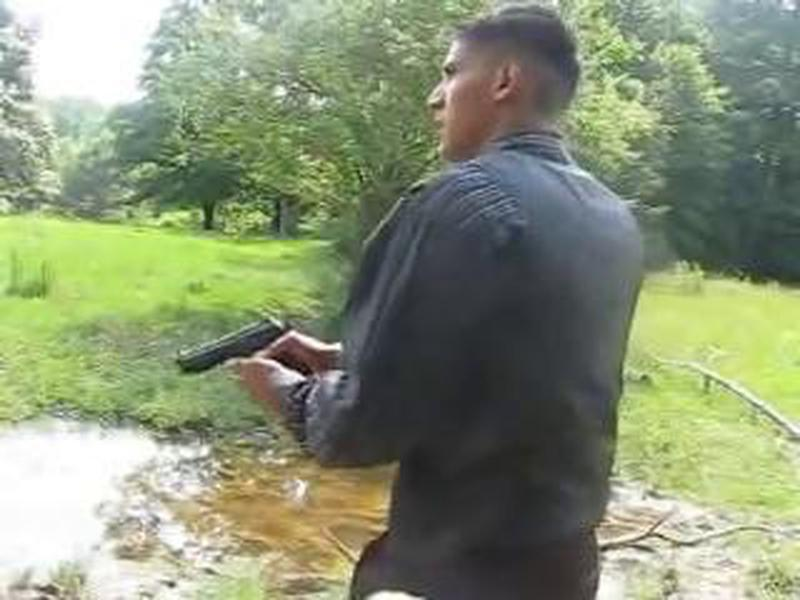Pistola: (169, 302, 317, 399)
